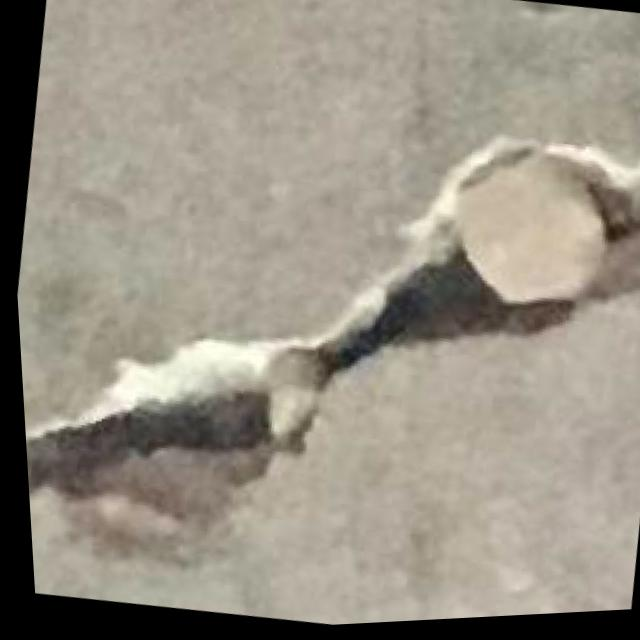Crack: (3, 33, 640, 638)
